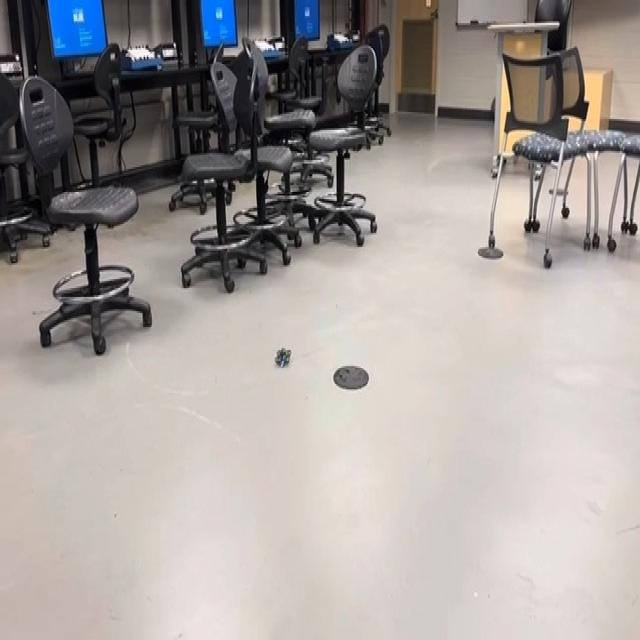drone: (267, 337, 296, 378)
